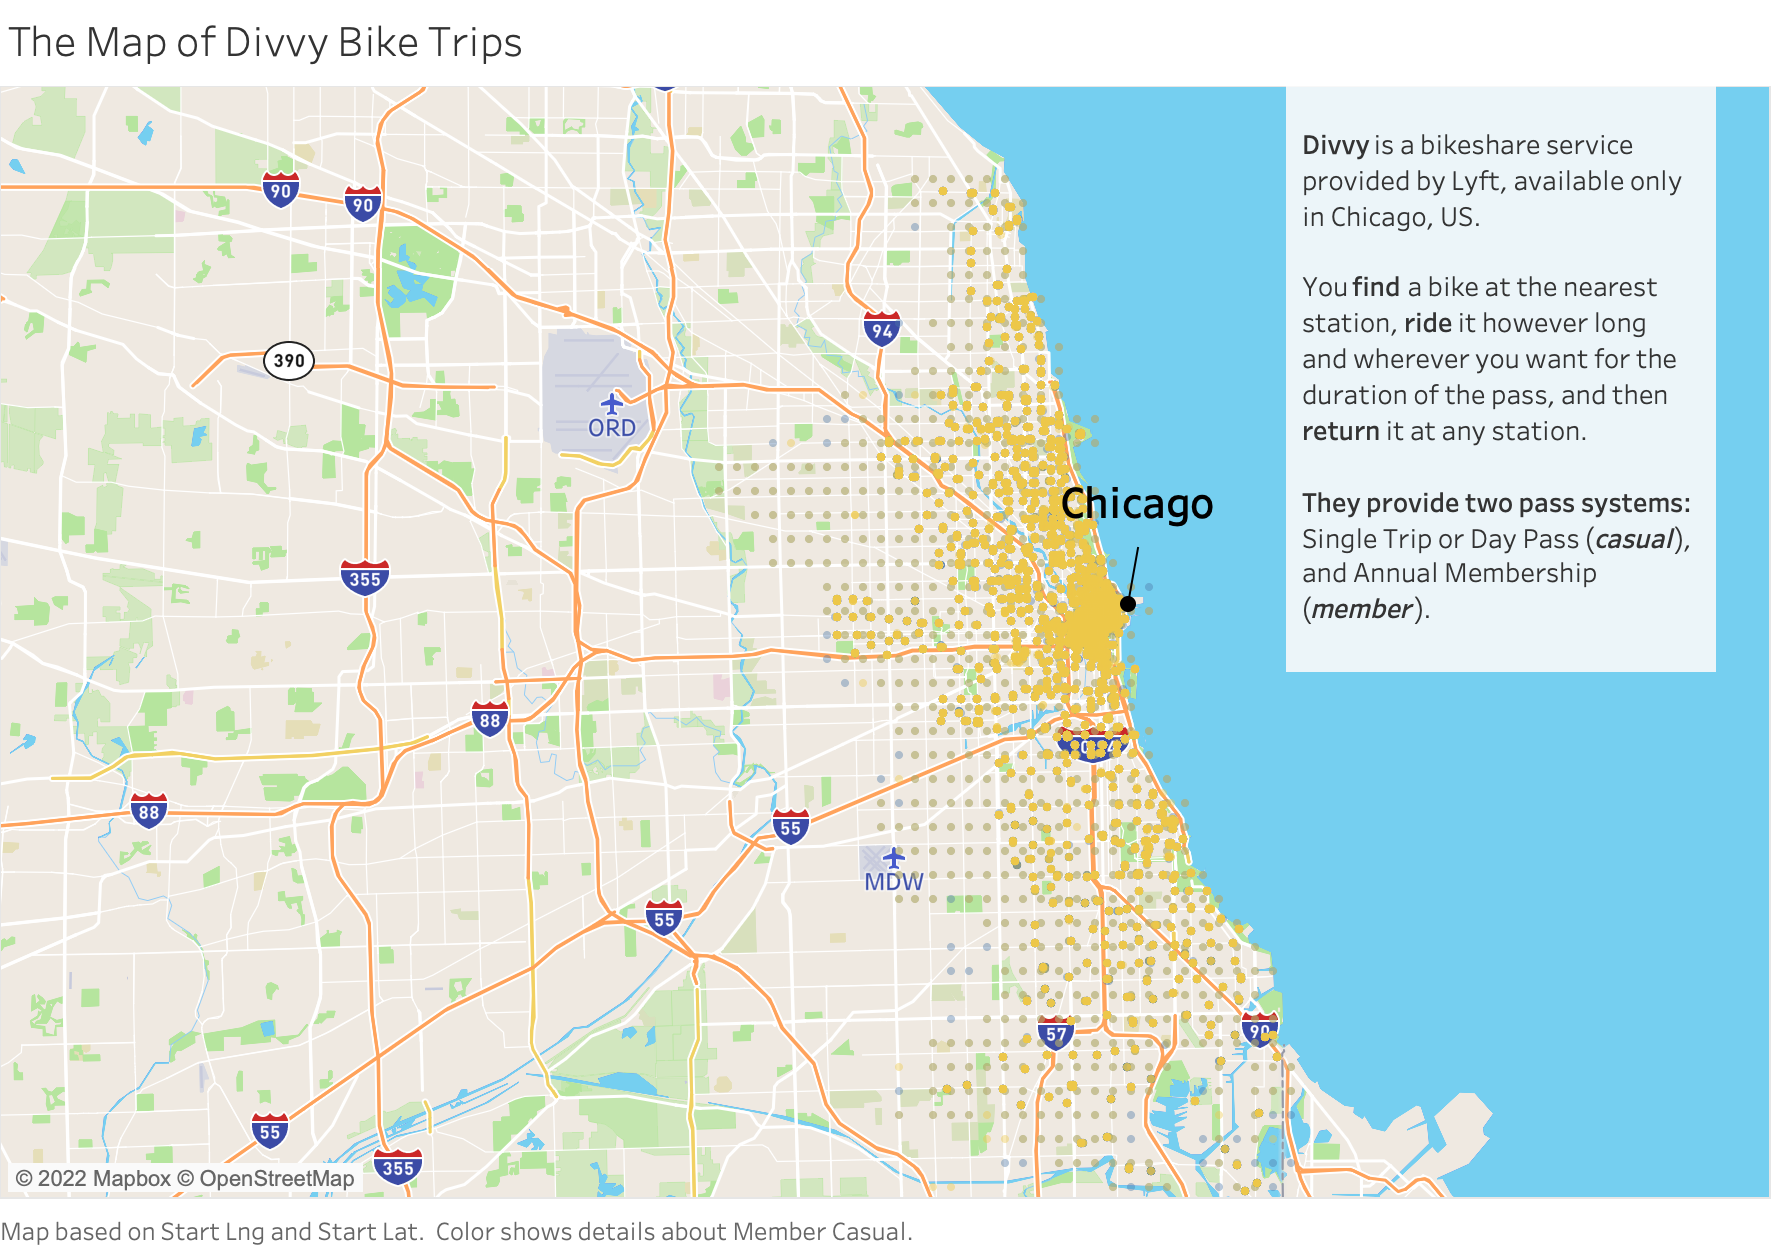

The dashboard page shown, as its layout file describes it:
{"tool":"tableau","page":{"name":"general","canvas":[1000,800],"ordinal":1},"visuals":[{"type":"text","box":[8,8,742,140]},{"type":"blank","box":[750,8,242,188]},{"type":"worksheet","title":"Map of Trips in July 2022","mark":"Automatic","rows":["start_lat"],"cols":["start_lng"],"box":[8,148,742,505]},{"type":"text","box":[750,196,242,596]},{"type":"legend","title":"Map of Trips in July 2022","param":"[federated.1m0uthk1t39hhf1f1ruhv0u3zd2e].[none:member_casual:nk]","box":[616,199,140,58]},{"type":"blank","box":[8,653,55,139]},{"type":"text","box":[63,653,375,139]},{"type":"text","box":[438,653,312,139]}]}

Visuals, with their boxes on the page's 1000x800 design canvas (x1, y1, x2, y2). These are canvas units, not pixel positions in the 1774x1250 screenshot, which may show the page scaled, cropped or inside an application window:
text: 8, 8, 750, 148
blank: 750, 8, 992, 196
"Map of Trips in July 2022" worksheet: 8, 148, 750, 653
text: 750, 196, 992, 792
"Map of Trips in July 2022" legend: 616, 199, 756, 257
blank: 8, 653, 63, 792
text: 63, 653, 438, 792
text: 438, 653, 750, 792
